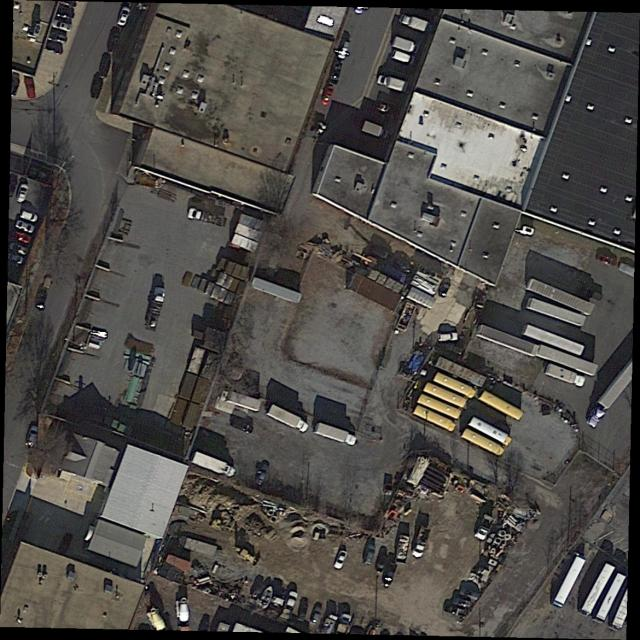large-vehicle: (579, 562, 615, 618), (552, 556, 586, 610), (265, 403, 312, 436), (595, 573, 626, 623), (459, 427, 509, 458), (478, 390, 525, 421), (467, 416, 513, 447), (215, 388, 264, 414), (412, 405, 457, 433), (191, 452, 237, 479), (417, 392, 463, 419), (422, 382, 468, 408), (433, 372, 477, 399), (313, 423, 359, 446), (545, 364, 585, 389), (397, 10, 431, 36), (359, 120, 392, 142), (376, 72, 410, 93), (392, 35, 422, 55), (391, 49, 417, 67)
ship: (255, 583, 277, 612)
small-vehicle: (410, 525, 432, 560), (278, 590, 300, 621), (473, 513, 496, 542), (378, 562, 399, 589), (105, 31, 125, 57), (325, 61, 345, 86), (317, 83, 336, 109), (334, 37, 353, 63), (373, 99, 397, 118), (24, 425, 43, 449), (331, 549, 350, 573), (33, 287, 51, 312), (230, 417, 254, 435), (372, 554, 391, 576), (19, 207, 42, 225), (307, 604, 325, 627), (96, 55, 113, 79), (595, 252, 619, 269), (176, 598, 190, 627), (88, 78, 106, 100), (115, 6, 133, 28), (254, 464, 271, 487), (9, 229, 33, 245), (49, 19, 74, 34), (458, 587, 481, 603), (321, 613, 339, 633), (14, 220, 37, 235), (46, 30, 68, 45), (55, 7, 77, 22), (24, 76, 37, 101), (42, 43, 65, 57), (9, 241, 30, 256), (296, 600, 310, 622), (15, 183, 30, 203), (7, 251, 26, 266), (364, 544, 376, 565), (438, 281, 452, 298), (453, 597, 472, 609), (438, 331, 458, 342)
